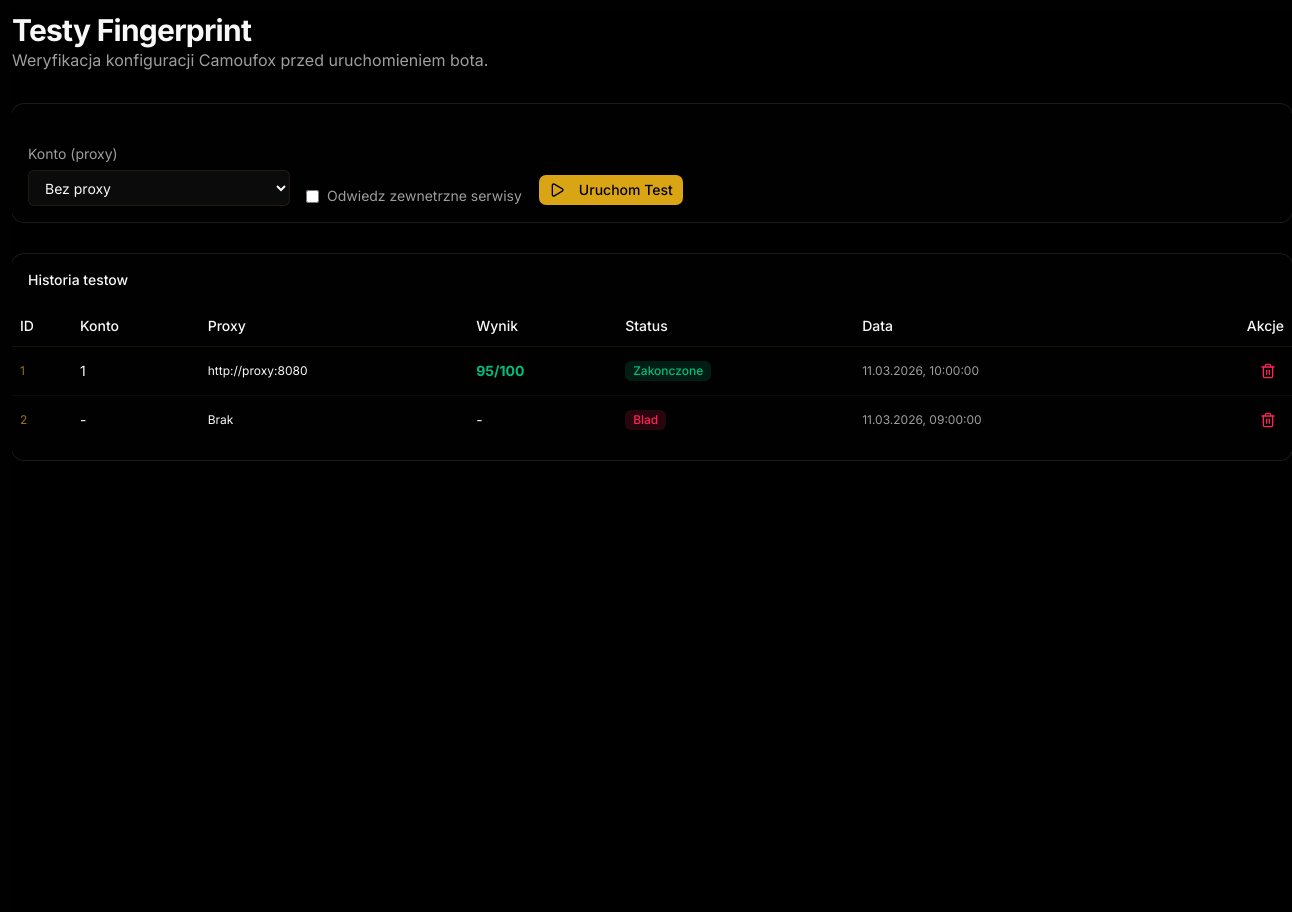
Test: FingerprintTestPage › shows category cards in results
The image size is (1292, 912).
Click the text "95/100" at (485, 370), box [476,362,524,378]
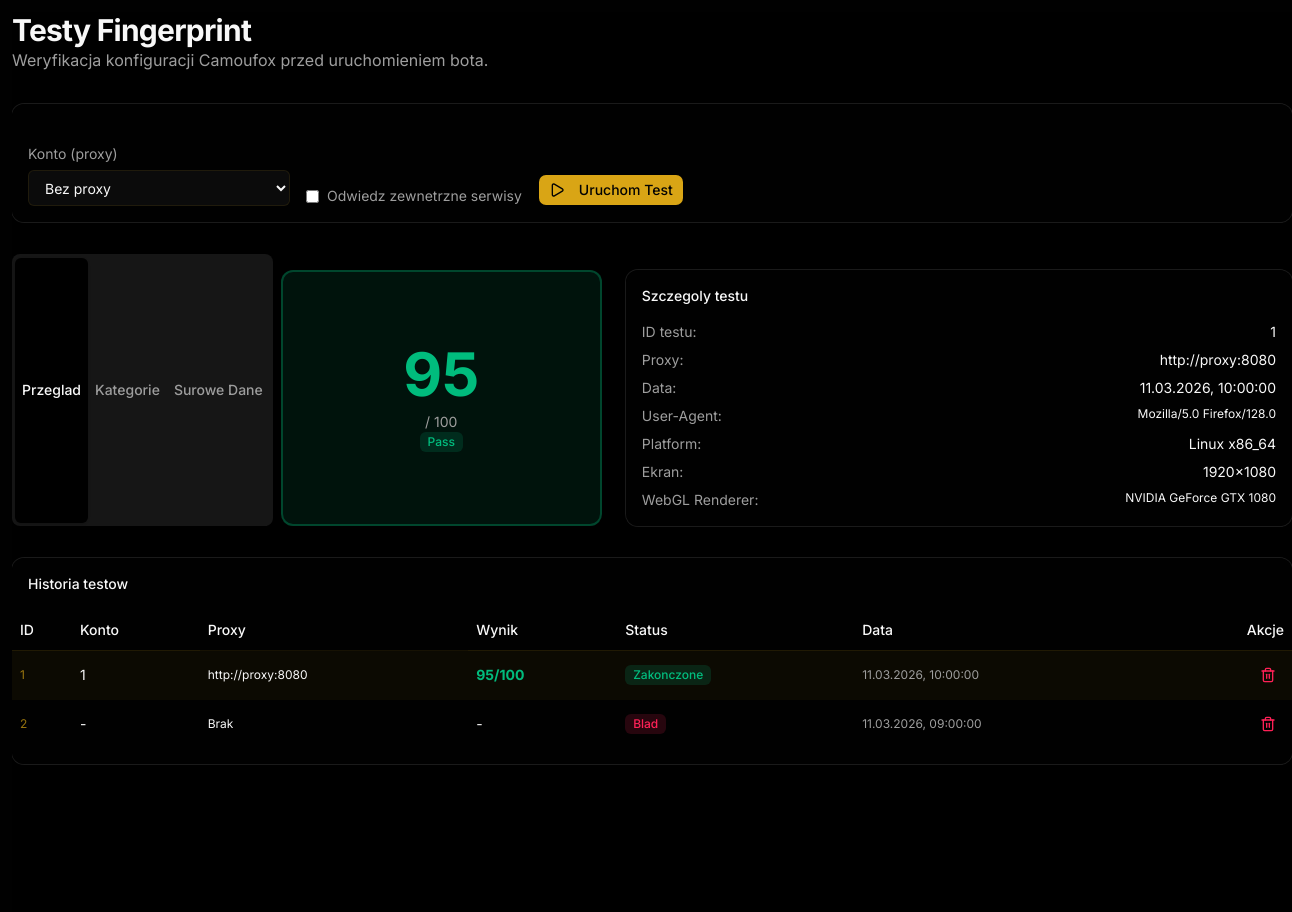
Now the tab "Kategorie" is shown
Click the tab "Kategorie" at (127, 390), box [88,258,167,522]
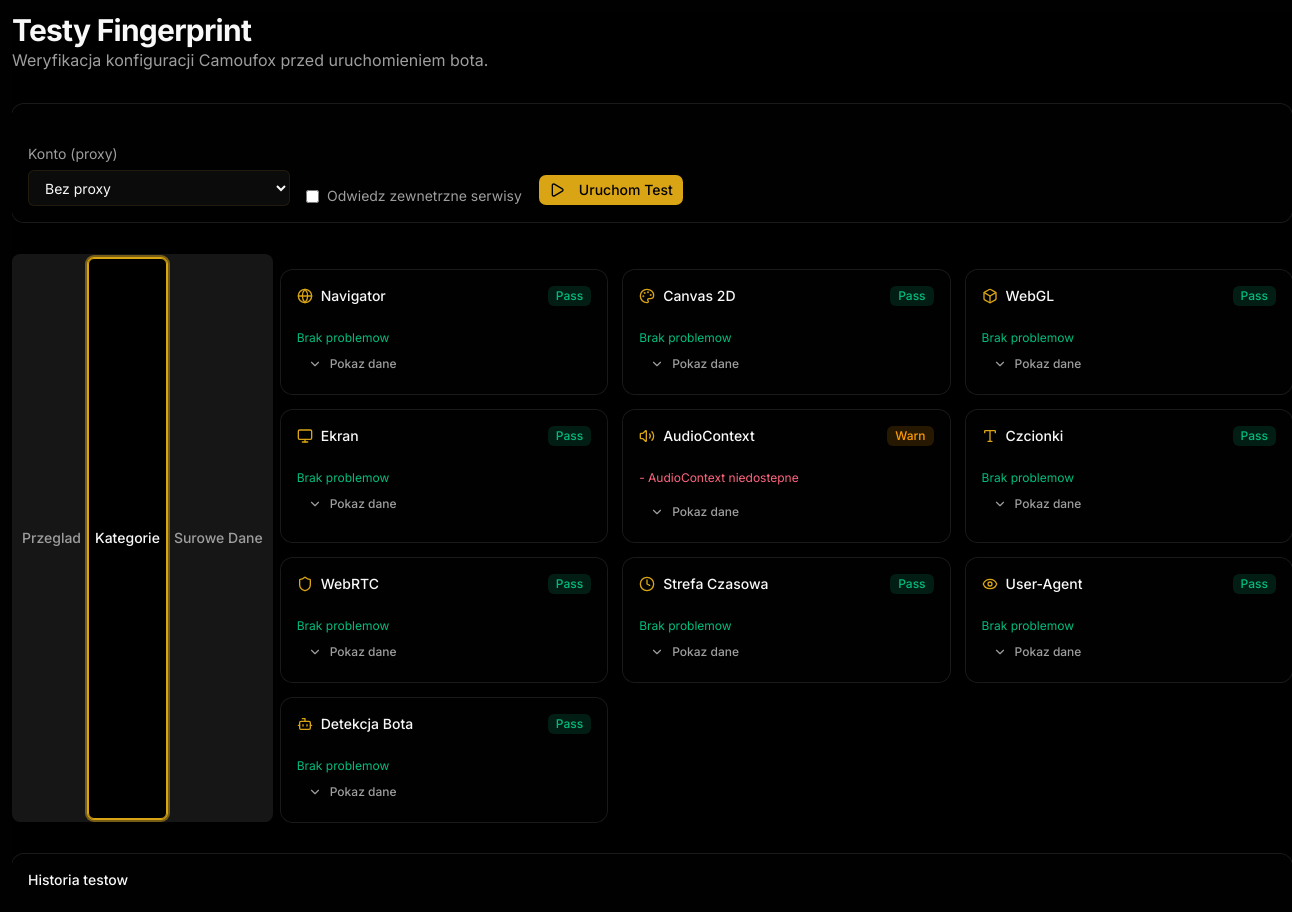
Now the text "WebGL" is shown, box [1006,286,1054,306]
Now the text "Navigator" is shown, box [321,286,386,306]
Now the text "Canvas 2D" is shown, box [663,286,736,306]
